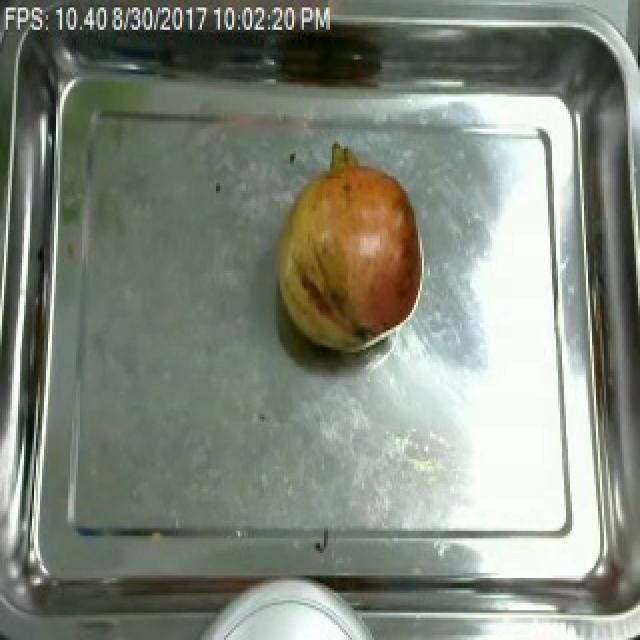fruit: (270, 139, 432, 367)
